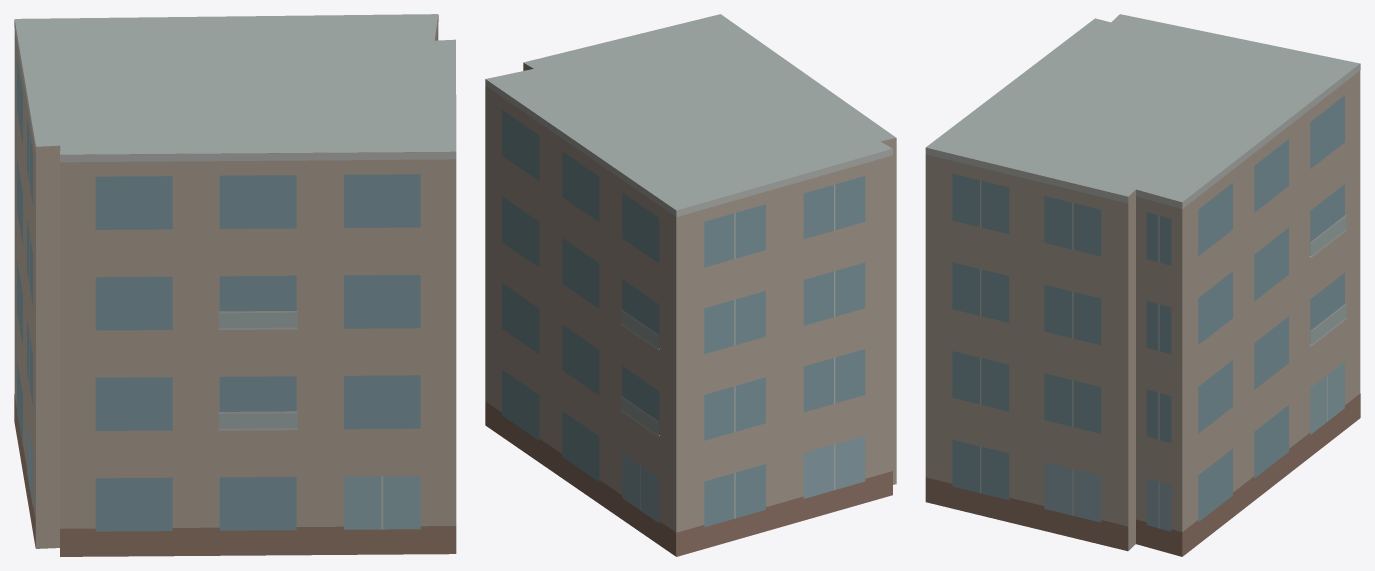
The model's file is survey-upis-32657561.glb.
3 renders of one model, left to right at view 1: azimuth 30°, elevation 25°; view 2: azimuth 150°, elevation 25°; view 3: azimuth 270°, elevation 25°, orthographic. The views are drawn at different scales.
Parts seen in each view (by area): view 1: survey-upis-32657561.tmp; view 2: survey-upis-32657561.tmp; view 3: survey-upis-32657561.tmp.
Boxes of the visible parts, <box> form: survey-upis-32657561.tmp: <box>14,14,456,556</box>; survey-upis-32657561.tmp: <box>485,14,896,556</box>; survey-upis-32657561.tmp: <box>925,14,1360,556</box>.
Size of the model in its own units: 14.59 by 12.8 by 14.24.
